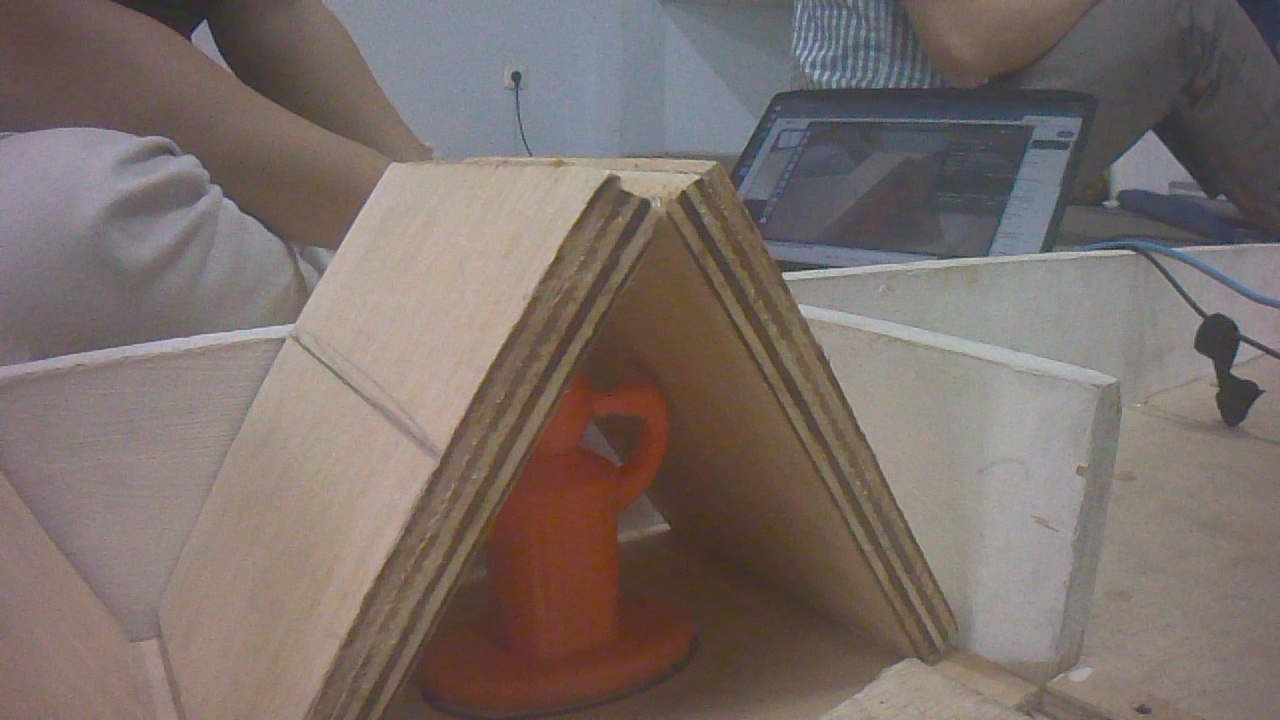real: (424, 367, 678, 716)
